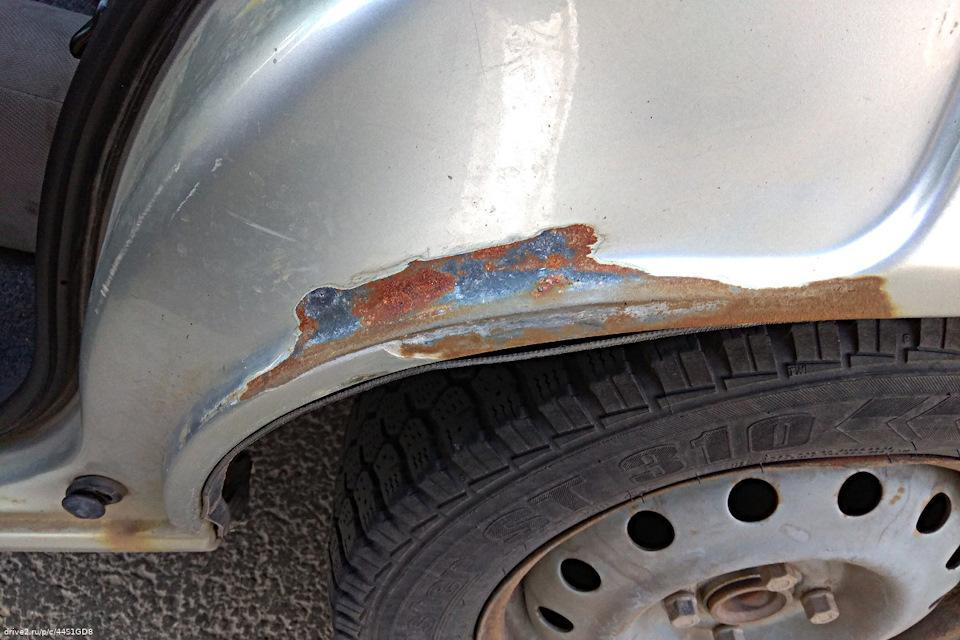corrosion: (235, 226, 894, 402)
